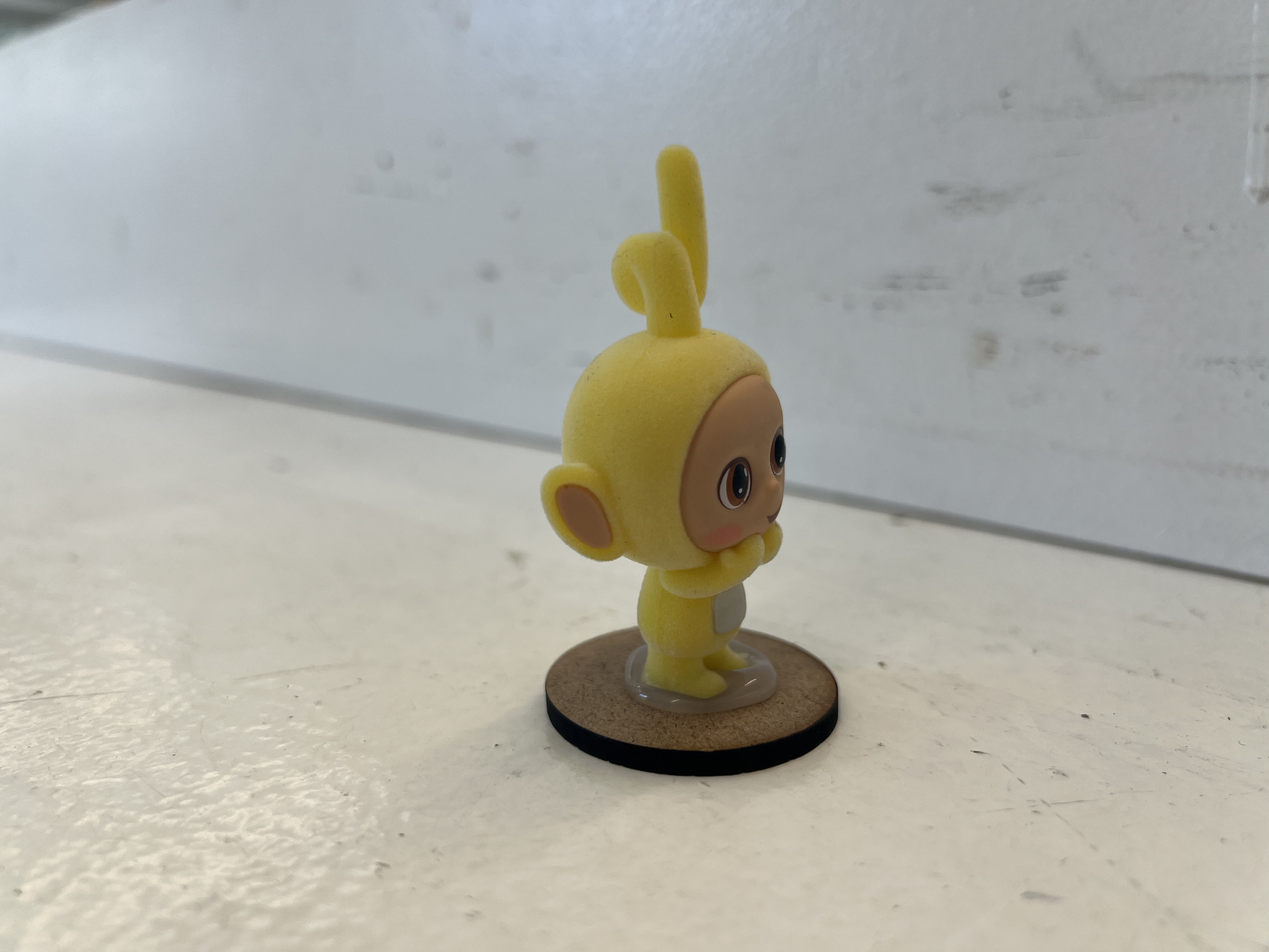teletubby: (542, 146, 784, 698)
